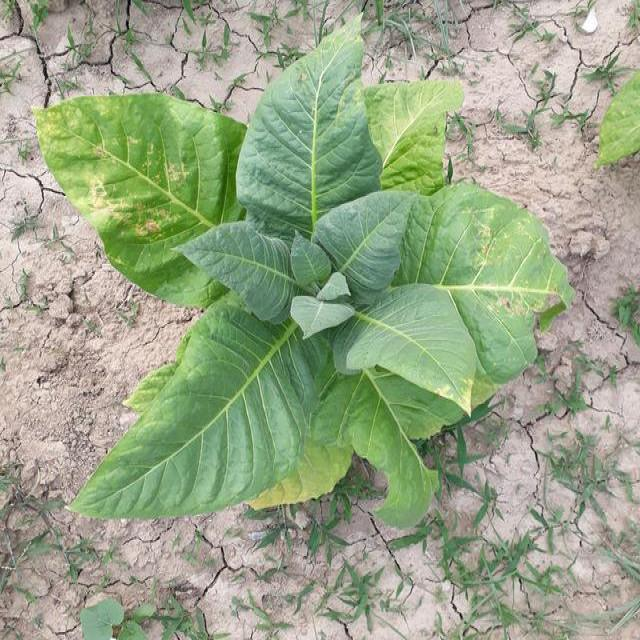crop: (34, 72, 568, 528)
